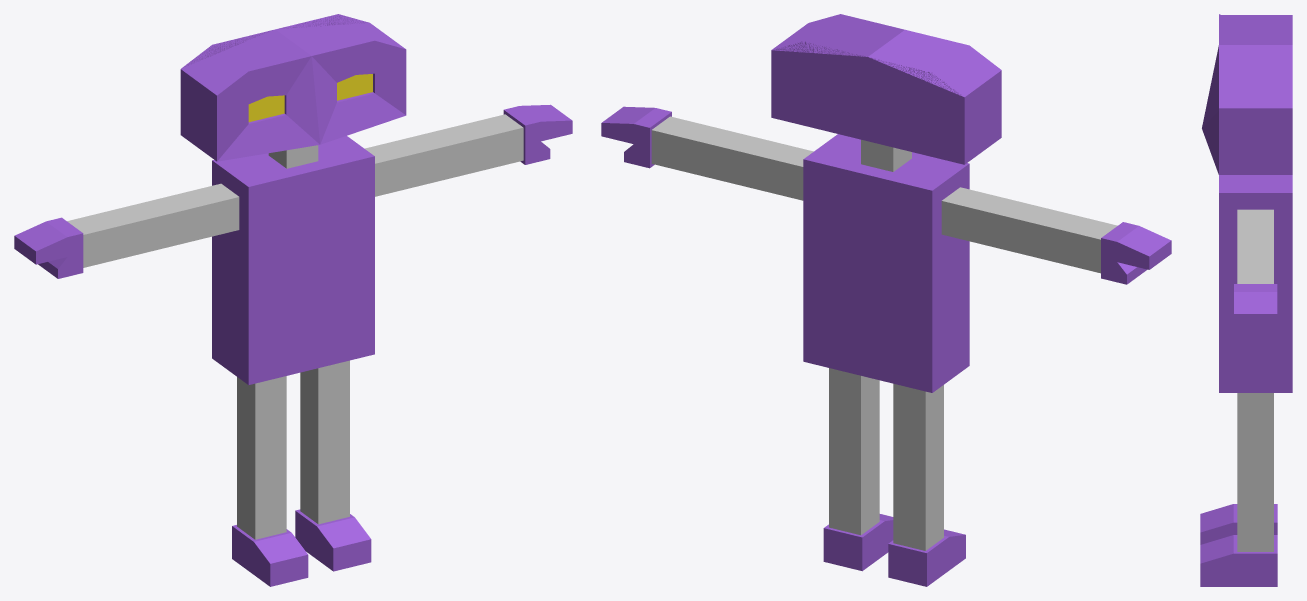
File: GeraldLooseNoArmature.fbx
3 views of the same model, side by side, from view 1: azimuth 30°, elevation 25°; view 2: azimuth 150°, elevation 25°; view 3: azimuth 270°, elevation 25° (orthographic). The views are drawn at different scales.
Visible parts, largest first — view 1: Body, Head, ArmRight, LegRight, LegLeft, ArmLeft; view 2: Body, Head, ArmRight, LegRight, LegLeft, ArmLeft; view 3: Head, Body, LegLeft, ArmLeft, LegRight.
Part boxes in pixels (bbox=[...]): Body: bbox=[212, 136, 374, 385]; Head: bbox=[180, 14, 406, 161]; ArmRight: bbox=[14, 183, 239, 278]; LegRight: bbox=[232, 376, 308, 586]; LegLeft: bbox=[295, 360, 371, 571]; ArmLeft: bbox=[365, 104, 572, 196]; Body: bbox=[803, 134, 969, 392]; Head: bbox=[771, 14, 1001, 164]; ArmRight: bbox=[941, 187, 1171, 284]; LegRight: bbox=[888, 383, 965, 586]; LegLeft: bbox=[823, 368, 893, 571]; ArmLeft: bbox=[601, 106, 813, 200]; Head: bbox=[1202, 14, 1292, 174]; Body: bbox=[1219, 175, 1292, 392]; LegLeft: bbox=[1200, 393, 1277, 586]; ArmLeft: bbox=[1234, 209, 1277, 336]; LegRight: bbox=[1200, 504, 1277, 544].
Size of the model in its own units: 1.7 by 1.55 by 0.25.
